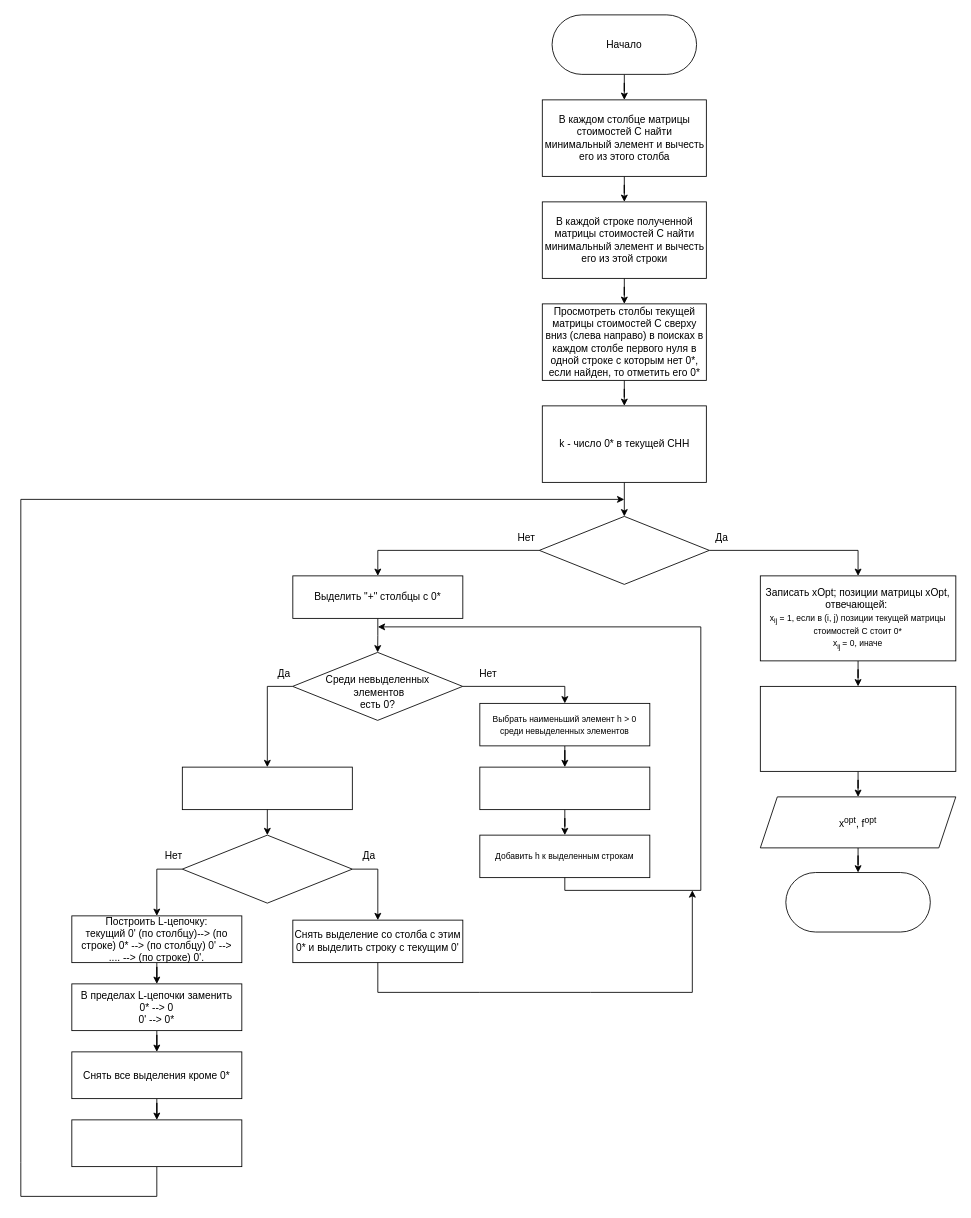
Some shapes in this 971 by 1218 pixel diagram are drawn without their labels. The centre of each missing label's shape, as x and y in pixels:
f opt = f(x opt ): pixel 857 728
k = k + 1: pixel 156 1143
k = n?: pixel 623 550
В одной строке с текущим 0' есть 0*?: pixel 266 868
Вычесть h из невыделенных столбцов: pixel 564 788
Конец: pixel 857 902
Отметить его 0': pixel 266 788
